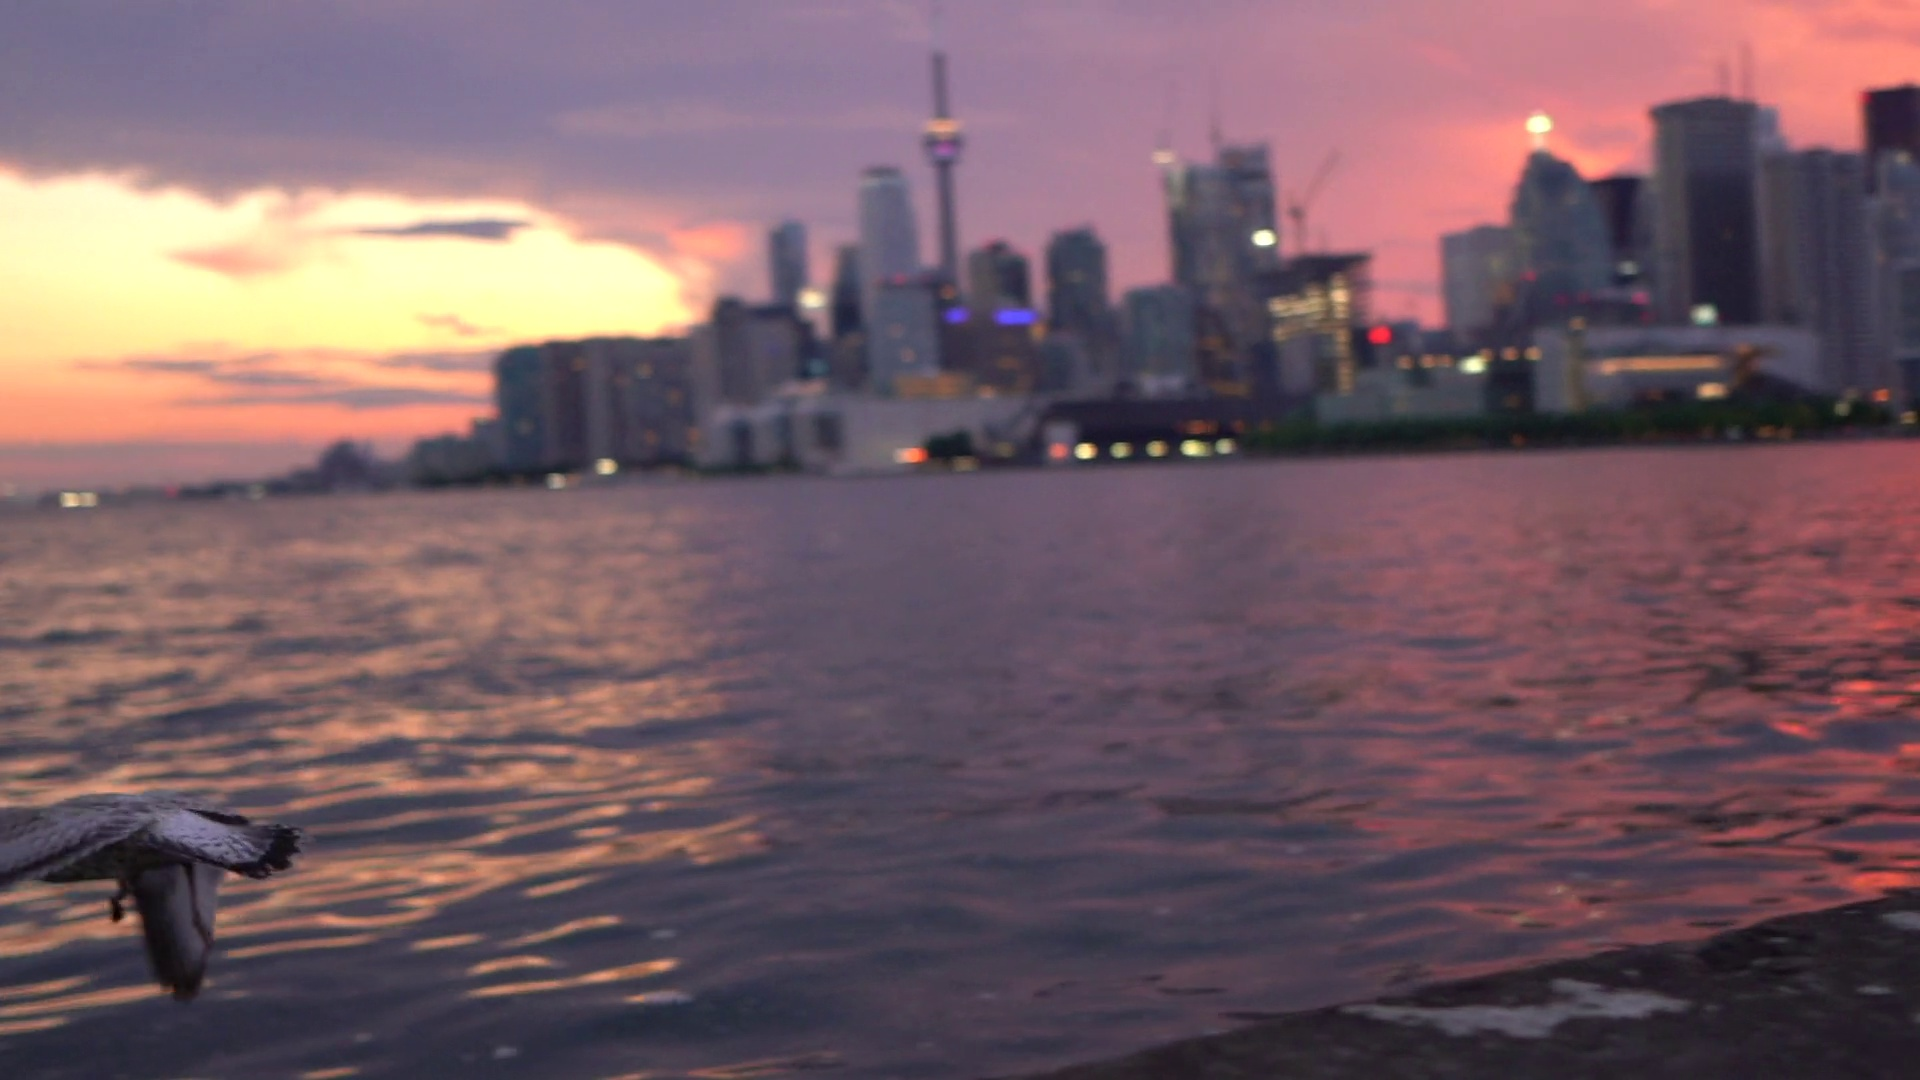bird: (0, 790, 305, 1004)
